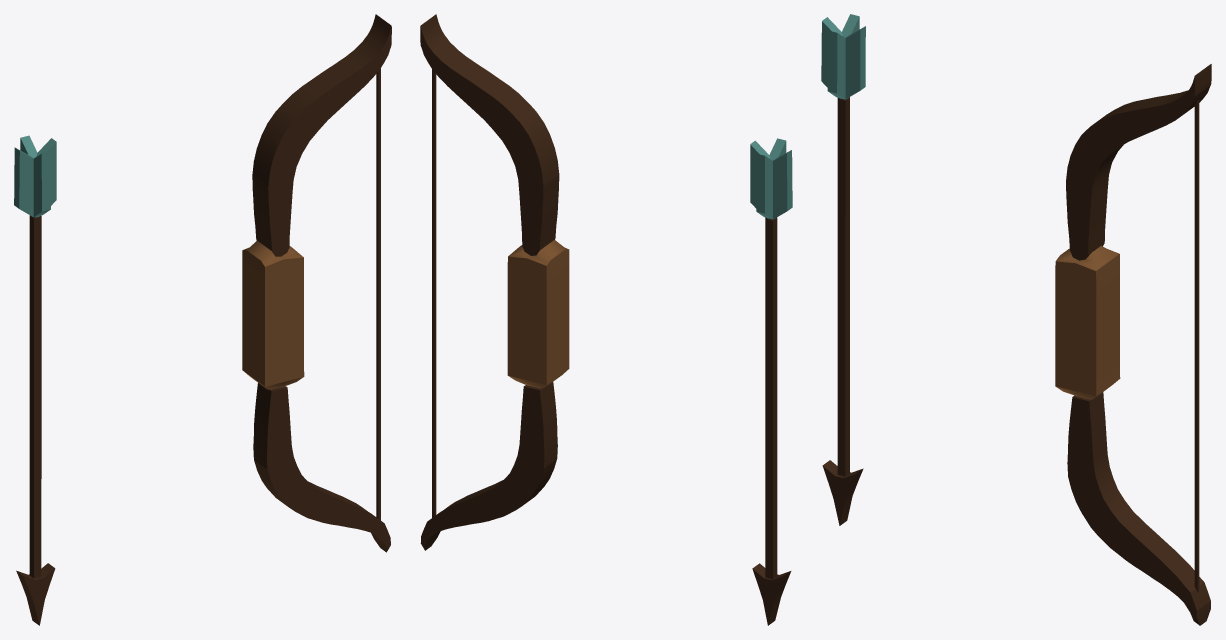
3 renders of one model, left to right at view 1: azimuth 30°, elevation 25°; view 2: azimuth 150°, elevation 25°; view 3: azimuth 330°, elevation 25°, orthographic. The views are drawn at different scales.
Visible parts, largest first — view 1: Cube.002, Cube, Cube.001, Cube.005, Cube.003, Cube.007, Cube.006, Cube.004; view 2: Cube.002, Cube, Cube.001, Cube.005, Cube.003, Cube.007, Cube.006, Cube.004; view 3: Cube.001, Cube, Cube.002, Cube.005, Cube.003, Cube.007, Cube.006, Cube.004.
Part boxes in pixels (x1,y1,x2,y2): Cube.002: (252,14,391,256); Cube: (242,240,304,389); Cube.001: (253,383,390,552); Cube.005: (29,215,41,578); Cube.003: (376,68,380,520); Cube.007: (14,138,56,217); Cube.006: (20,135,50,217); Cube.004: (16,563,55,625); Cube.002: (420,14,559,255); Cube: (507,240,569,388); Cube.001: (420,382,557,550); Cube.005: (765,217,777,579); Cube.003: (432,69,436,517); Cube.007: (750,140,792,219); Cube.006: (756,138,786,218); Cube.004: (752,563,791,625); Cube.001: (1067,392,1210,625); Cube: (1055,245,1120,399); Cube.002: (1066,64,1211,260); Cube.005: (837,97,849,476); Cube.003: (1194,99,1199,592); Cube.007: (821,17,865,99); Cube.006: (827,14,859,99); Cube.004: (822,460,863,525).
Bounding box in the file's own units: 74.89 × 104 × 8.53.
